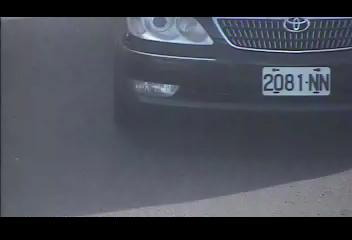plate: (260, 66, 331, 96)
